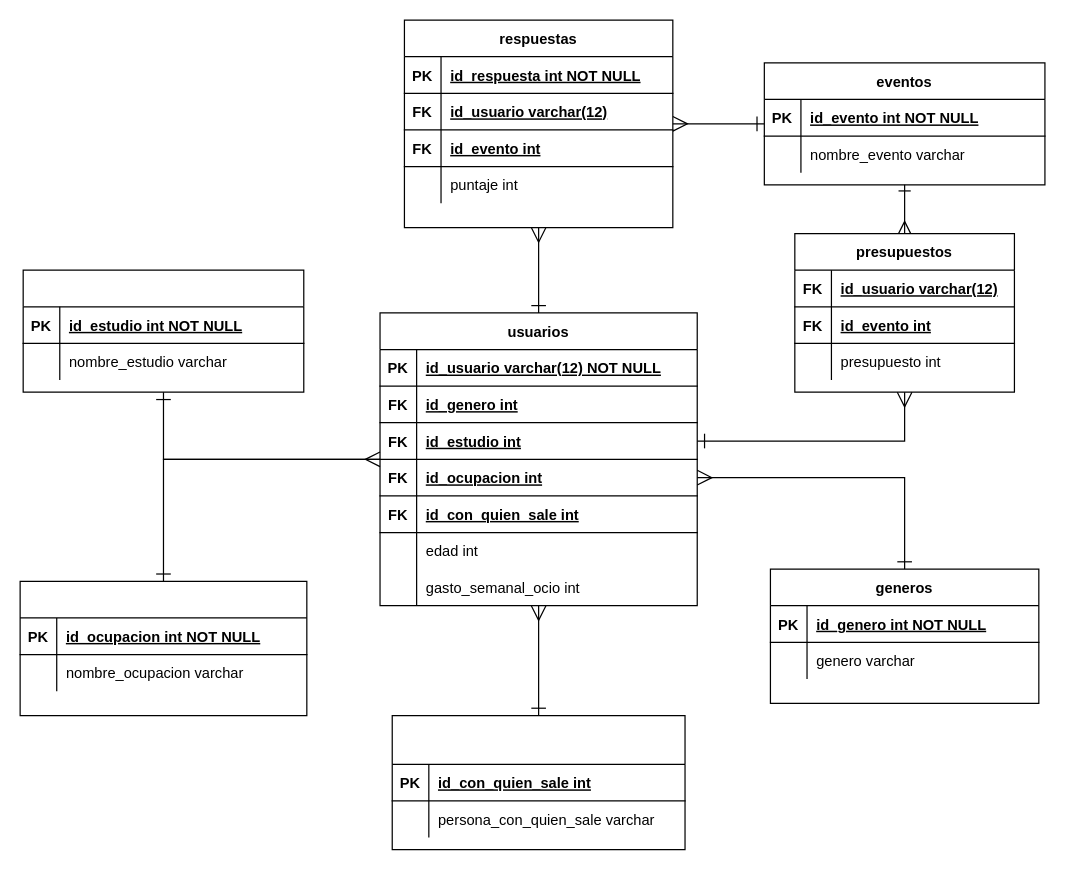
Some shapes in this 1065 by 870 pixel diagram are drawn without their labels. The shapes that lost their labels are listed below. From the top down, each one's box as (x1, y1, x2, y2) in pixels, then its label:
(22, 269, 304, 392): estudios
(19, 580, 307, 716): ocupaciones
(391, 714, 685, 850): con_quien_sale_habitualmente
